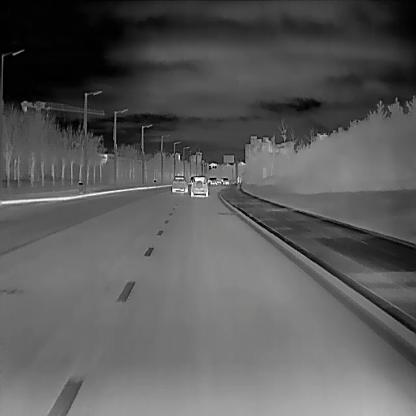car: (190, 176, 208, 197), (171, 176, 187, 192), (207, 176, 216, 184), (220, 176, 228, 184)
